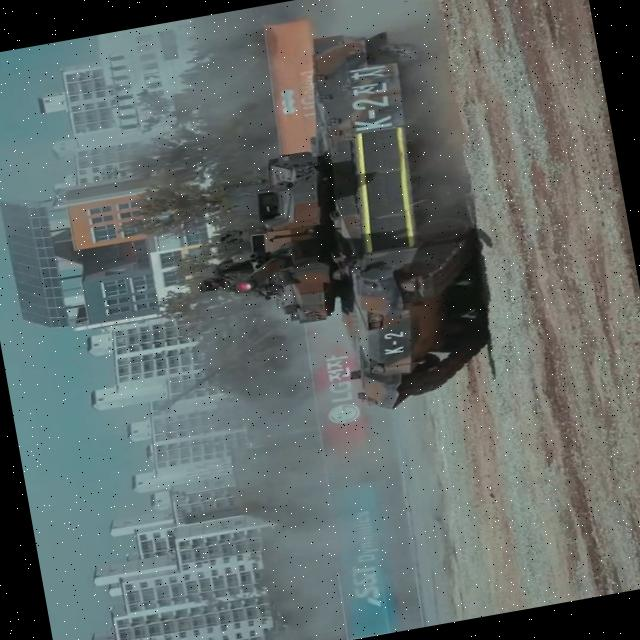korea tank: (154, 13, 511, 442)
